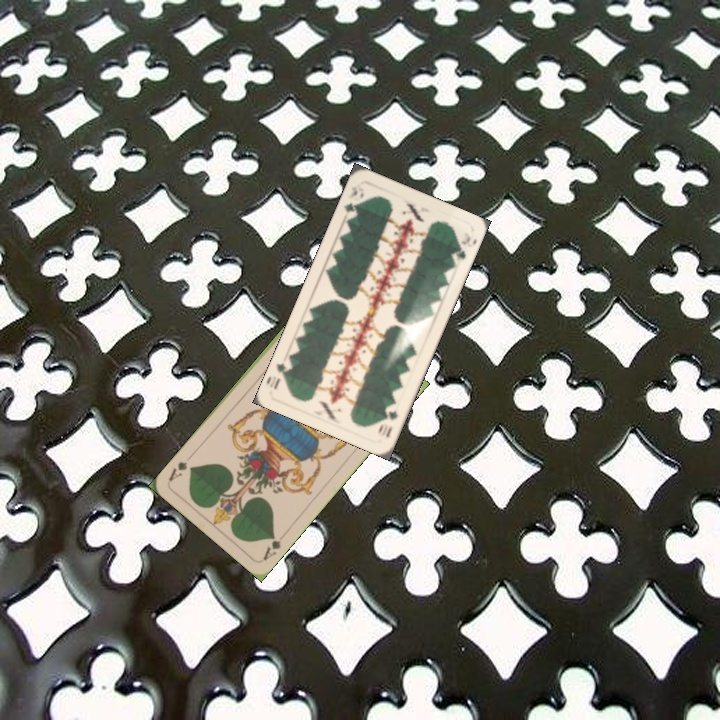G10: (339, 183, 362, 222), (375, 406, 401, 440)
GA: (259, 529, 289, 563)
